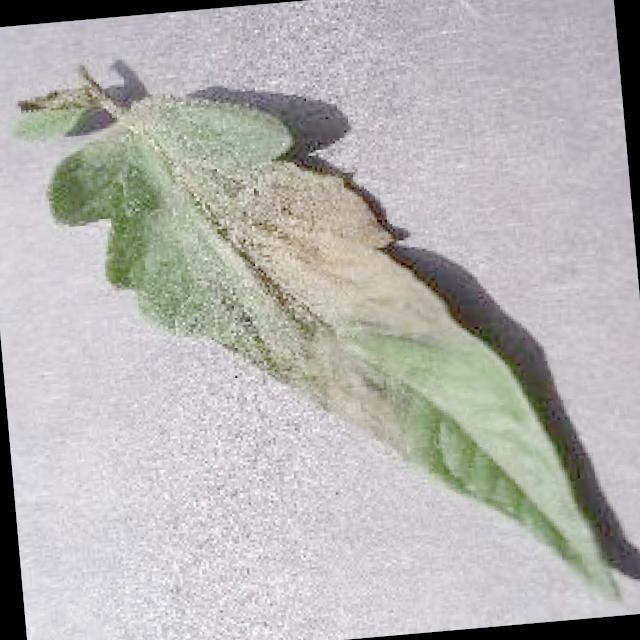Tomato late blight leaf: (41, 60, 622, 640)
